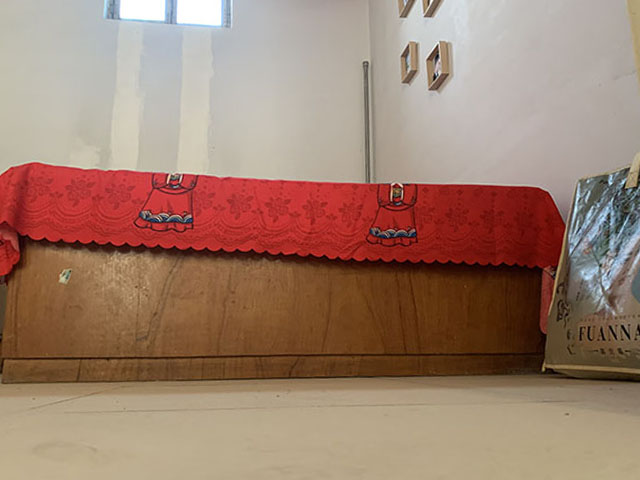bed: (1, 160, 558, 382)
